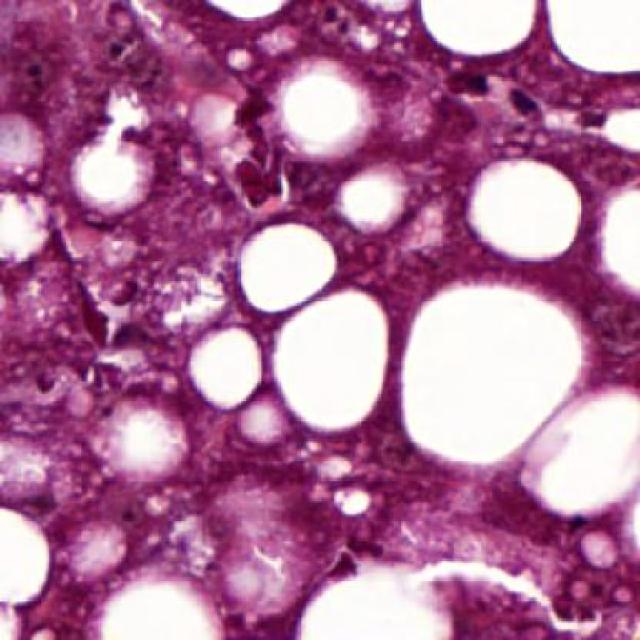steatosis: (466, 155, 583, 261), (235, 218, 338, 314), (420, 0, 541, 58), (547, 0, 640, 74)
